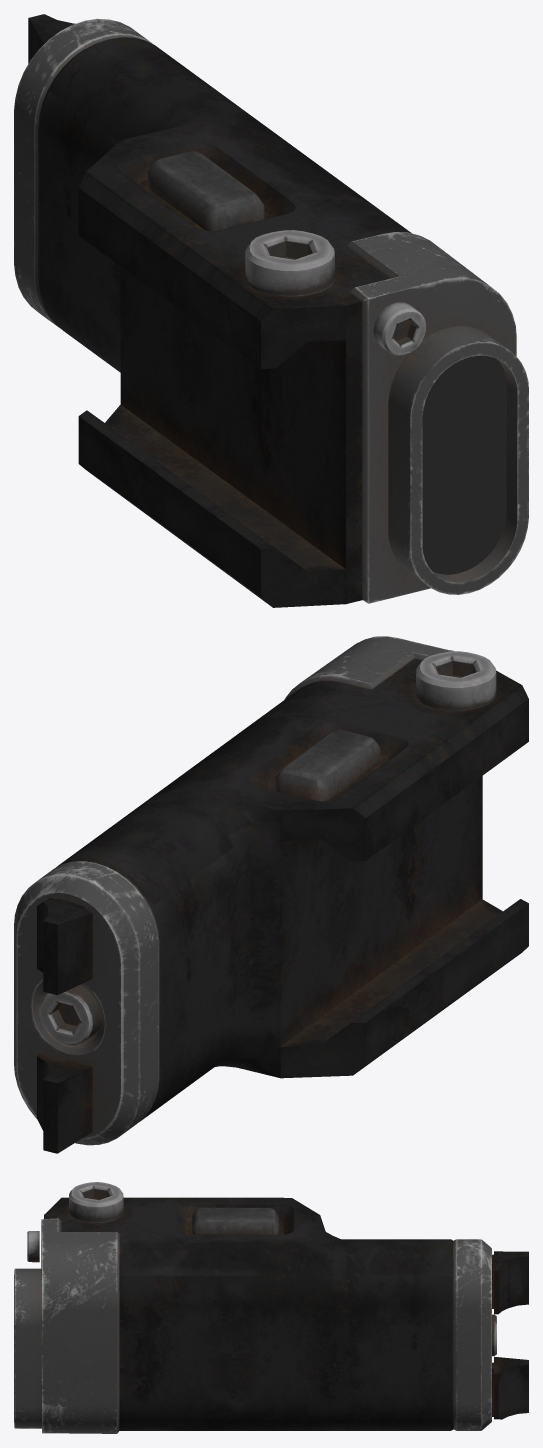
Rendered from Flashlight_B.glb.
3 views of the same model, one above another, from view 1: azimuth 30°, elevation 25°; view 2: azimuth 150°, elevation 25°; view 3: azimuth 270°, elevation 25° (orthographic). The views are drawn at different scales.
Visible parts, largest first — view 1: Flashlight_B, Gun_Light_Glass_B; view 2: Flashlight_B; view 3: Flashlight_B.
Boxes of the visible parts, bbox=[...] form: Flashlight_B: bbox=[14, 14, 528, 607]; Gun_Light_Glass_B: bbox=[422, 355, 506, 574]; Flashlight_B: bbox=[14, 636, 528, 1153]; Flashlight_B: bbox=[14, 1182, 528, 1433].
Bounding box in the file's own units: 0.0221 × 0.03 × 0.0676.
2 materials, 2 textured.
